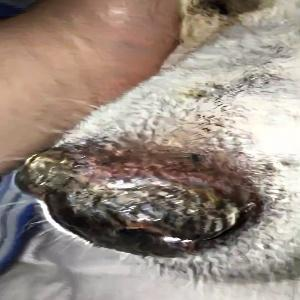keratosis: (10, 147, 250, 242)
